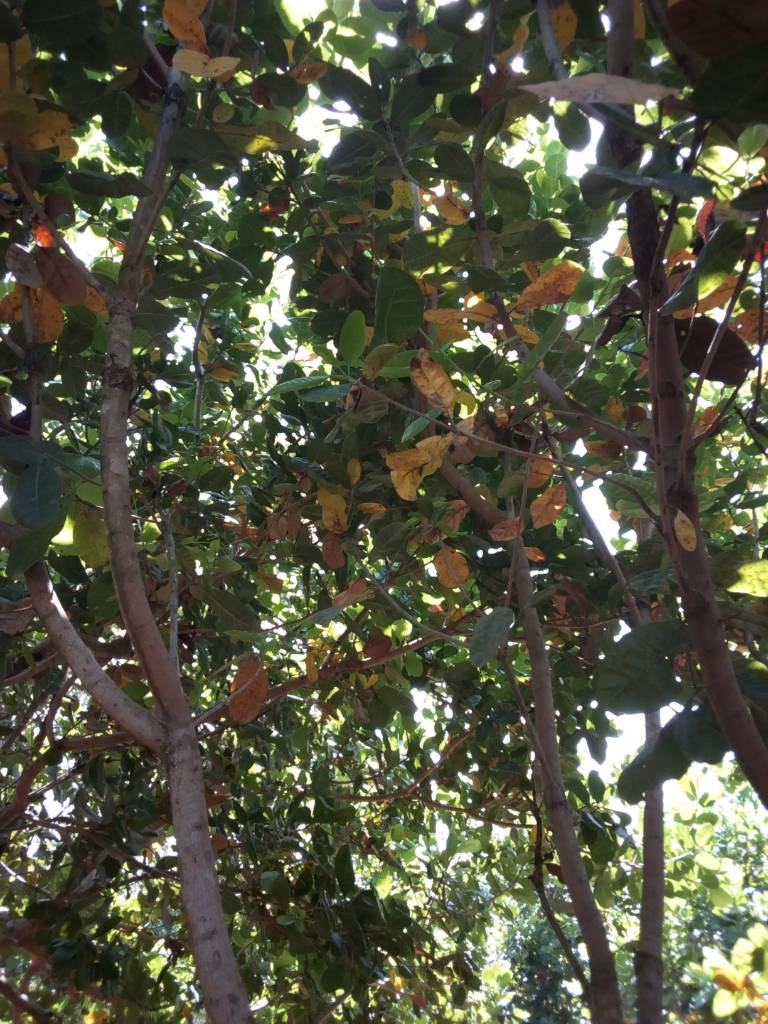Dessèchement des bourgeons: (515, 74, 682, 105)
